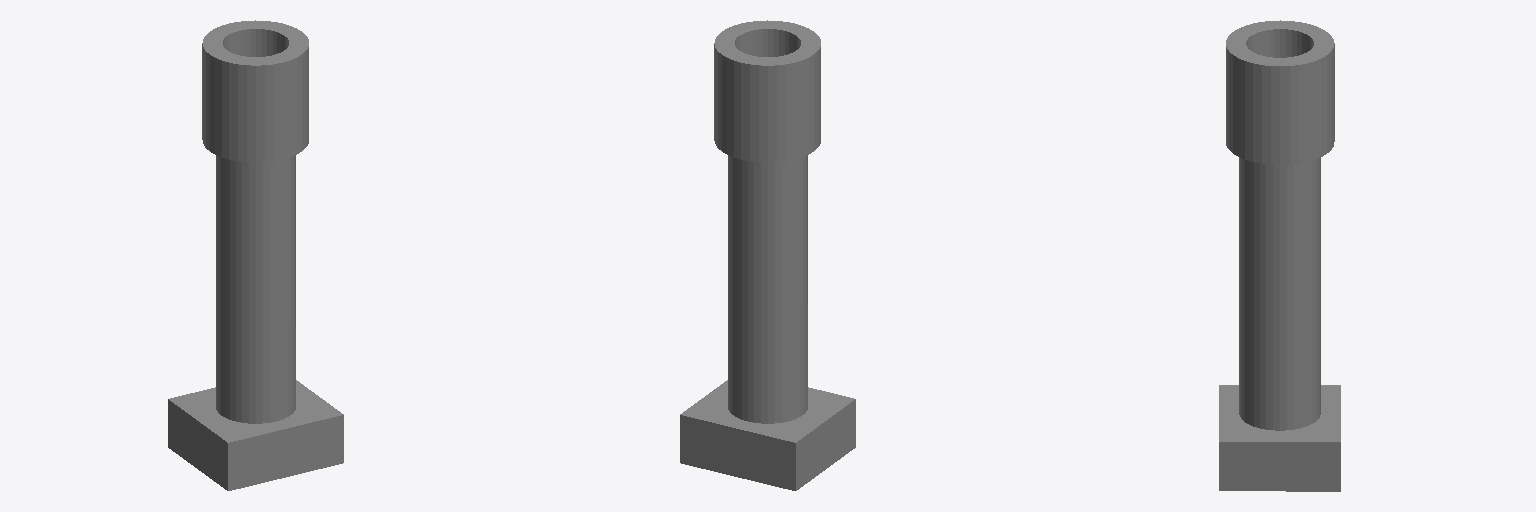
URDF robot description (object):
<?xml version="1.0" encoding="utf-8"?>
<robot name="object">

  <link name="base_link">

    <!-- Stable inertial properties -->
    <inertial>
      <origin xyz="0 0 0" rpy="0 0 0" />
      <mass value="0.05" />
      <inertia ixx="0.001" ixy="0" ixz="0" iyy="0.001" iyz="0" izz="0.001" />
    </inertial>

    <!-- Visual -->
    <visual>
      <origin xyz="0 0 0" rpy="1.5704 0 0" />
      <geometry>
        <mesh filename="package://object/meshes/Obj.STL" scale="1 1 1" />
      </geometry>
      <material name="gray">
        <color rgba="0.6 0.6 0.6 1.0"/>
      </material>
    </visual>

    <!-- Collision -->
    <collision>
      <origin xyz="0 0 0" rpy="1.5704 0 0" />
      <geometry>
        <mesh filename="package://object/meshes/Obj.STL" scale="1 1 1" />
      </geometry>
    </collision>

  </link>

</robot>


--- Facts derived from the render (not from the file) ---
The picture shows the robot from 3 angles, left to right: view 1: azimuth 30°, elevation 25°; view 2: azimuth 150°, elevation 25°; view 3: azimuth 270°, elevation 25°; orthographic projection.
Model object with 1 links and 0 joints (none), rooted at base_link, posed all joints at 0.
Visible links, largest first — view 1: base_link; view 2: base_link; view 3: base_link.
Link boxes in pixels (box(x1,y1,x2,y2)): base_link: box(168, 20, 343, 490); base_link: box(680, 20, 855, 490); base_link: box(1219, 20, 1340, 491).
Size in the robot's own frame: 0.05 by 0.045 by 0.17 metres.
1 mesh visuals loaded from 1 distinct referenced files (1 binary STL).